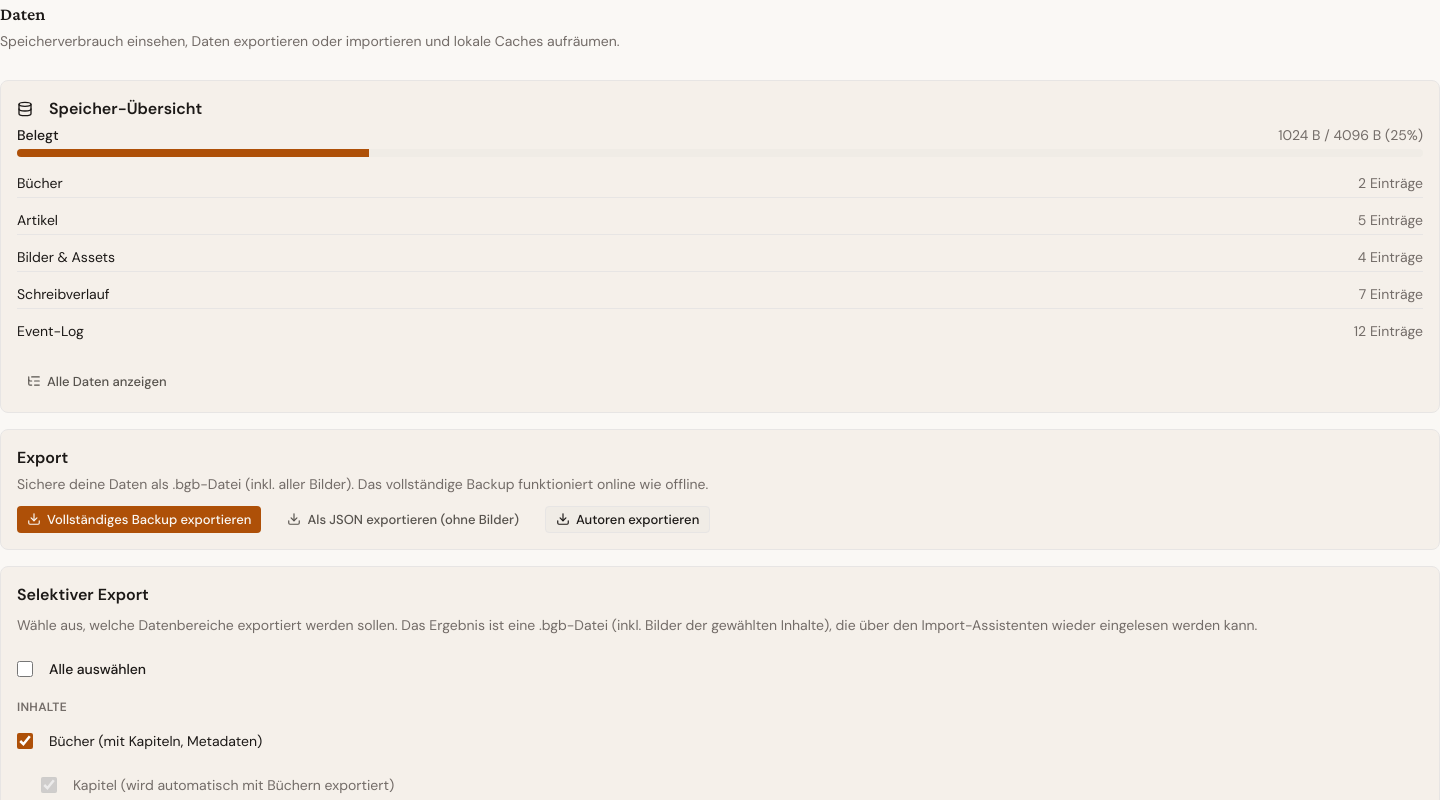
Test: DataManagementSettings › toggles the raw table list
What coordinates should you click on to do the following:
click the button with test id "data-show-all-toggle"
I would click on:
 (97, 381)
Its box is [17,369,177,394].
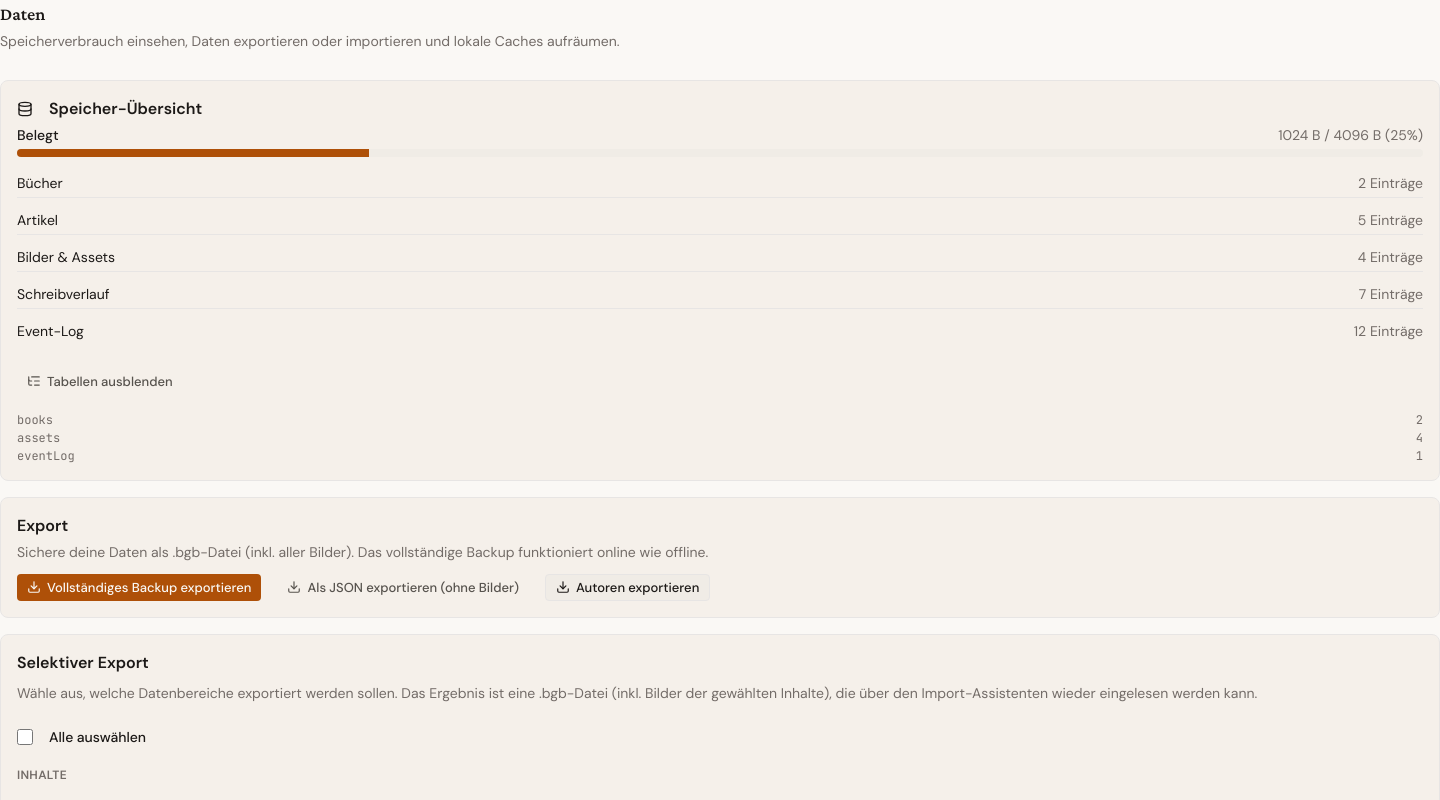
Expected: the list with test id "data-tables-list" is shown, [17,412,1423,464]
Expected: the list item with test id "data-table-row-eventLog" is shown, [17,448,1423,464]
